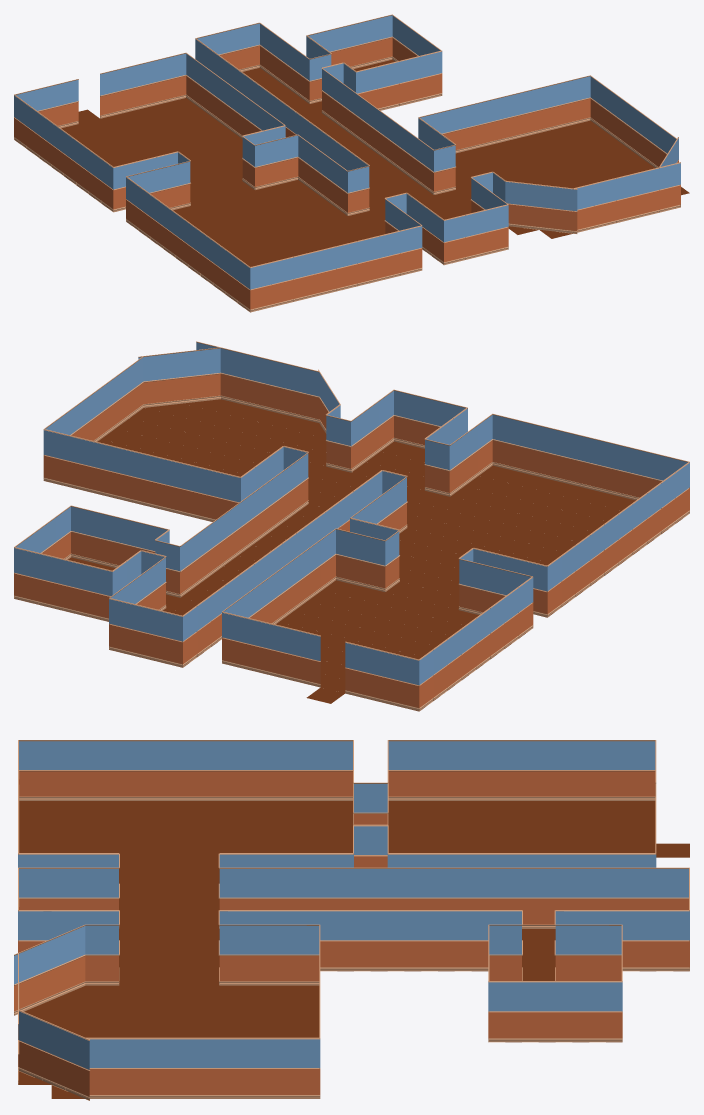
Rendered from WallsAndFloors.fbx.
The picture shows the model from 3 angles, top to bottom: view 1: azimuth 30°, elevation 25°; view 2: azimuth 150°, elevation 25°; view 3: azimuth 270°, elevation 25°; orthographic projection. The views are drawn at different scales.
Visible parts, largest first — view 1: wall_straight__26__1, wall_straight__27_, wall_straight__28_, wall_straight__8__2, wall_straight__16__1, wall_straight__10__2, wall_straight__18__1, wall_cornerIn__2__3, wall_straight__18__3, wall_straight__6__4, wall_cornerInB_13, wall_cornerInB_6 (+87 smaller); view 2: wall_straight__24__1, wall_straight__23__1, wall_straight_3, wall_straight__16_, wall_straight__5__1, wall_cornerIn__2__2, wall_straight__17__1, wall_straight__7__2, wall_straight__17__3, wall_straight__1__4, wall_cornerIn__1__2, wall_cornerInB_5 (+86 smaller); view 3: wall_straight_1, wall_straight__9__1, wall_straight__17_, wall_straight__20_, wall_straight__3__4, wall_straight__22_, wall_straight__11__2, wall_straight__16__2, wall_straight__11__3, wall_straight__12__3, wall_straight__1__1, wall_straight__8__1 (+58 smaller).
Part boxes in pixels (x1=…): wall_straight__26__1: x1=553, y1=186, x2=577, y2=233; wall_straight__27_: x1=529, y1=183, x2=553, y2=231; wall_straight__28_: x1=505, y1=180, x2=529, y2=228; wall_straight__8__2: x1=314, y1=246, x2=336, y2=296; wall_straight__16__1: x1=637, y1=167, x2=659, y2=217; wall_straight__10__2: x1=271, y1=256, x2=293, y2=306; wall_straight__18__1: x1=594, y1=178, x2=616, y2=228; wall_cornerIn__2__3: x1=420, y1=50, x2=442, y2=100; wall_straight__18__3: x1=121, y1=63, x2=143, y2=113; wall_straight__6__4: x1=377, y1=61, x2=399, y2=110; wall_cornerInB_13: x1=164, y1=52, x2=186, y2=102; wall_cornerInB_6: x1=276, y1=134, x2=298, y2=184; wall_straight__24__1: x1=165, y1=350, x2=193, y2=405; wall_straight__23__1: x1=193, y1=347, x2=220, y2=402; wall_straight_3: x1=360, y1=534, x2=385, y2=591; wall_straight__16_: x1=133, y1=604, x2=158, y2=661; wall_straight__5__1: x1=117, y1=447, x2=142, y2=504; wall_cornerIn__2__2: x1=394, y1=653, x2=419, y2=711; wall_straight__17__1: x1=245, y1=353, x2=270, y2=410; wall_straight__7__2: x1=566, y1=431, x2=591, y2=489; wall_straight__17__3: x1=246, y1=617, x2=271, y2=674; wall_straight__1__4: x1=38, y1=553, x2=63, y2=610; wall_cornerIn__1__2: x1=492, y1=413, x2=517, y2=471; wall_cornerInB_5: x1=43, y1=429, x2=68, y2=486; wall_straight_1: x1=219, y1=924, x2=253, y2=985; wall_straight__9__1: x1=219, y1=1037, x2=253, y2=1098; wall_straight__17_: x1=622, y1=910, x2=656, y2=971; wall_straight__20_: x1=454, y1=910, x2=488, y2=971; wall_straight__3__4: x1=555, y1=981, x2=589, y2=1042; wall_straight__22_: x1=387, y1=910, x2=421, y2=971; wall_straight__11__2: x1=51, y1=740, x2=85, y2=800; wall_straight__16__2: x1=219, y1=740, x2=253, y2=800; wall_straight__11__3: x1=454, y1=740, x2=488, y2=800; wall_straight__12__3: x1=555, y1=740, x2=589, y2=800; wall_straight__1__1: x1=253, y1=924, x2=286, y2=985; wall_straight__8__1: x1=253, y1=1037, x2=286, y2=1098.
Size of the model in its own units: 4227 by 400 by 4024.
